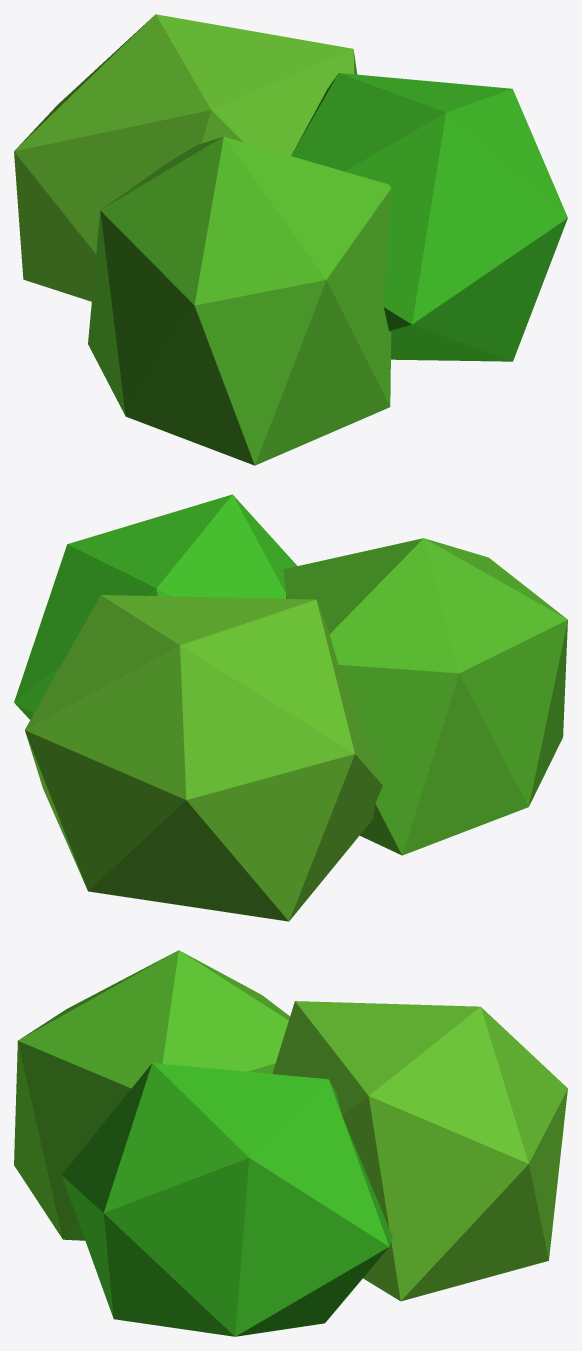
The model's file is bush1good.fbx.
3 renders of one model, top to bottom at view 1: azimuth 30°, elevation 25°; view 2: azimuth 150°, elevation 25°; view 3: azimuth 270°, elevation 25°, orthographic. The views are drawn at different scales.
Visible parts, largest first — view 1: Icosphere.002; view 2: Icosphere.002; view 3: Icosphere.002.
Part boxes in pixels (left/top/right/bottom): Icosphere.002: left=14, top=14, right=567, bottom=465; Icosphere.002: left=14, top=494, right=567, bottom=921; Icosphere.002: left=14, top=950, right=567, bottom=1336.
Bounding box in the file's own units: 413 × 232 × 457.
